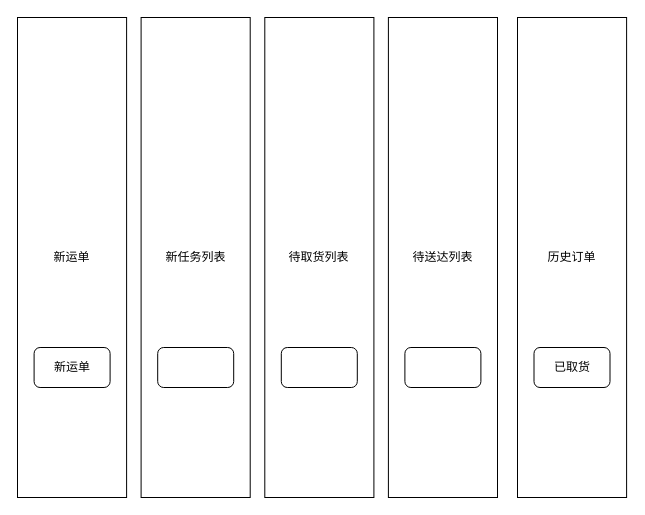
Some shapes in this 645 by 515 pixel diagram are drawn without their labels. The shapes that lost their labels are listed below. From the top down, each one's centre as x and y in pixels, then its label:
At (x=195, y=367): "推单待抢".
At (x=318, y=367): "待取货".
At (x=442, y=367): "待送达".
